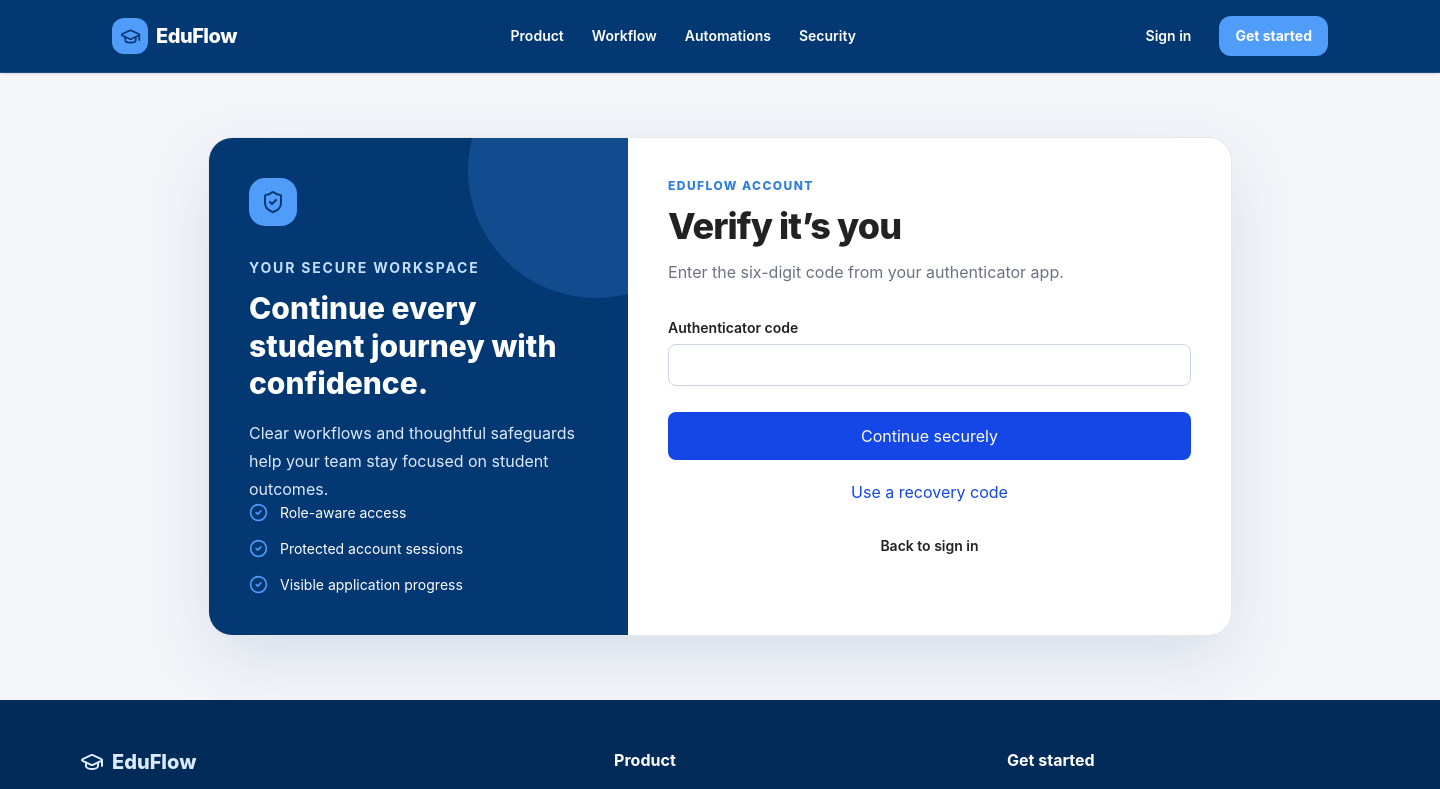
Test: verification and recovery email interfaces › shows a safe actionable MFA re-enrolment error and clears loading
The width and height of the screenshot is (1440, 789).
Type "123456" into the field labelled "Authenticator code" at point(930, 365), box top-left (668, 344), bottom-right (1191, 386)
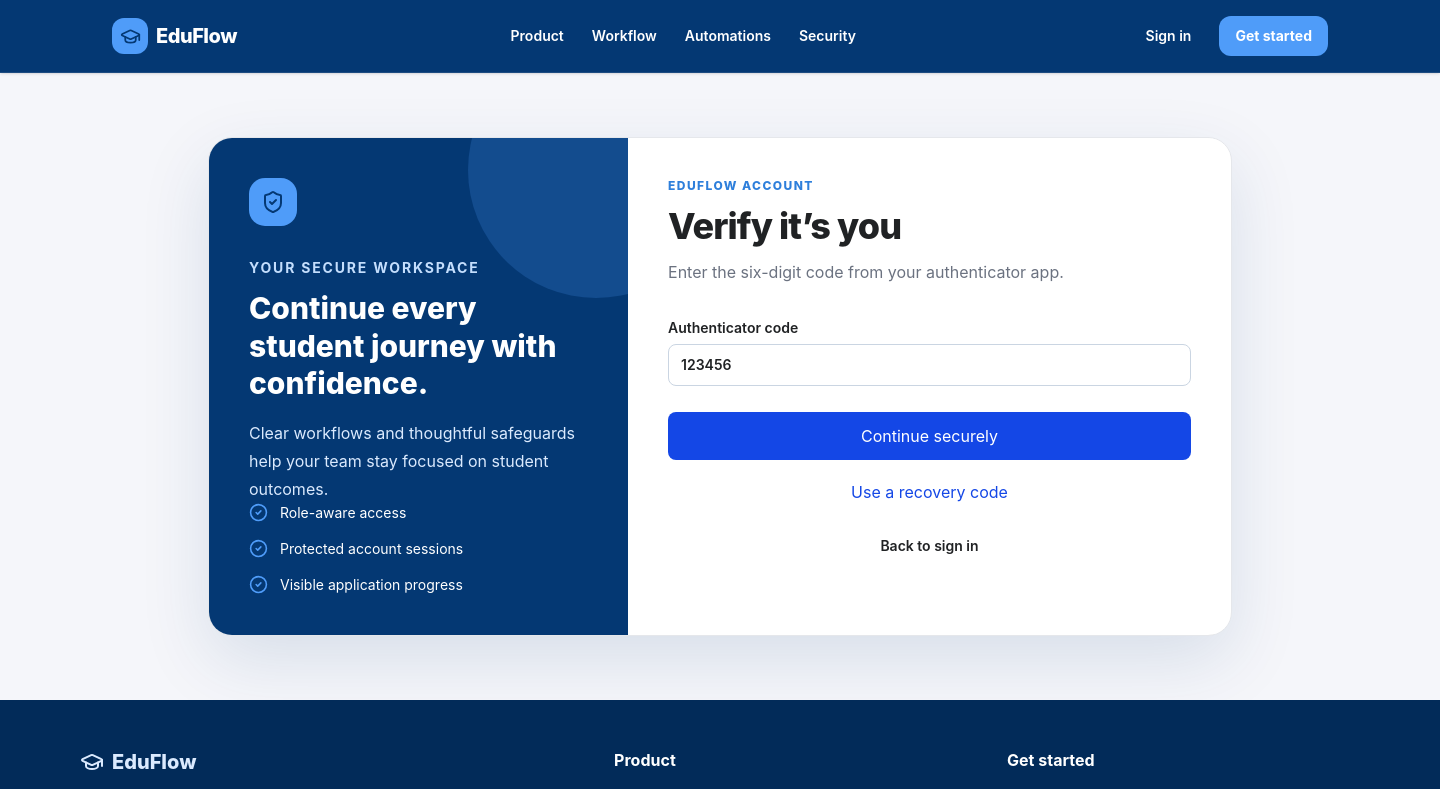
Click the button "Continue securely" at point(930, 436), box top-left (668, 412), bottom-right (1191, 460)
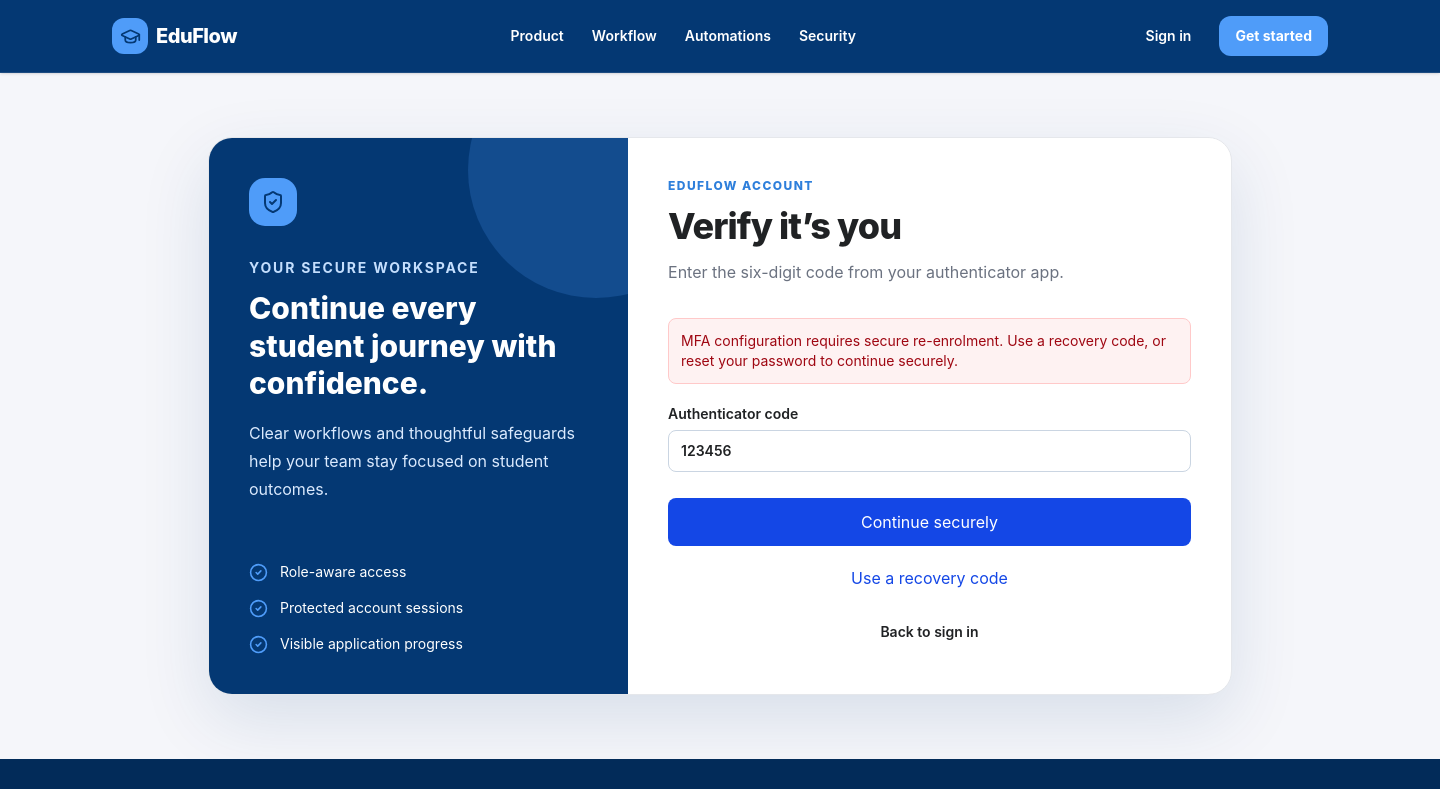
Expected: the message does not show "cryptographic", top-left (668, 318), bottom-right (1191, 384)
Now the message shows "Use a recovery code, or reset your password", box top-left (681, 332), bottom-right (1166, 369)
